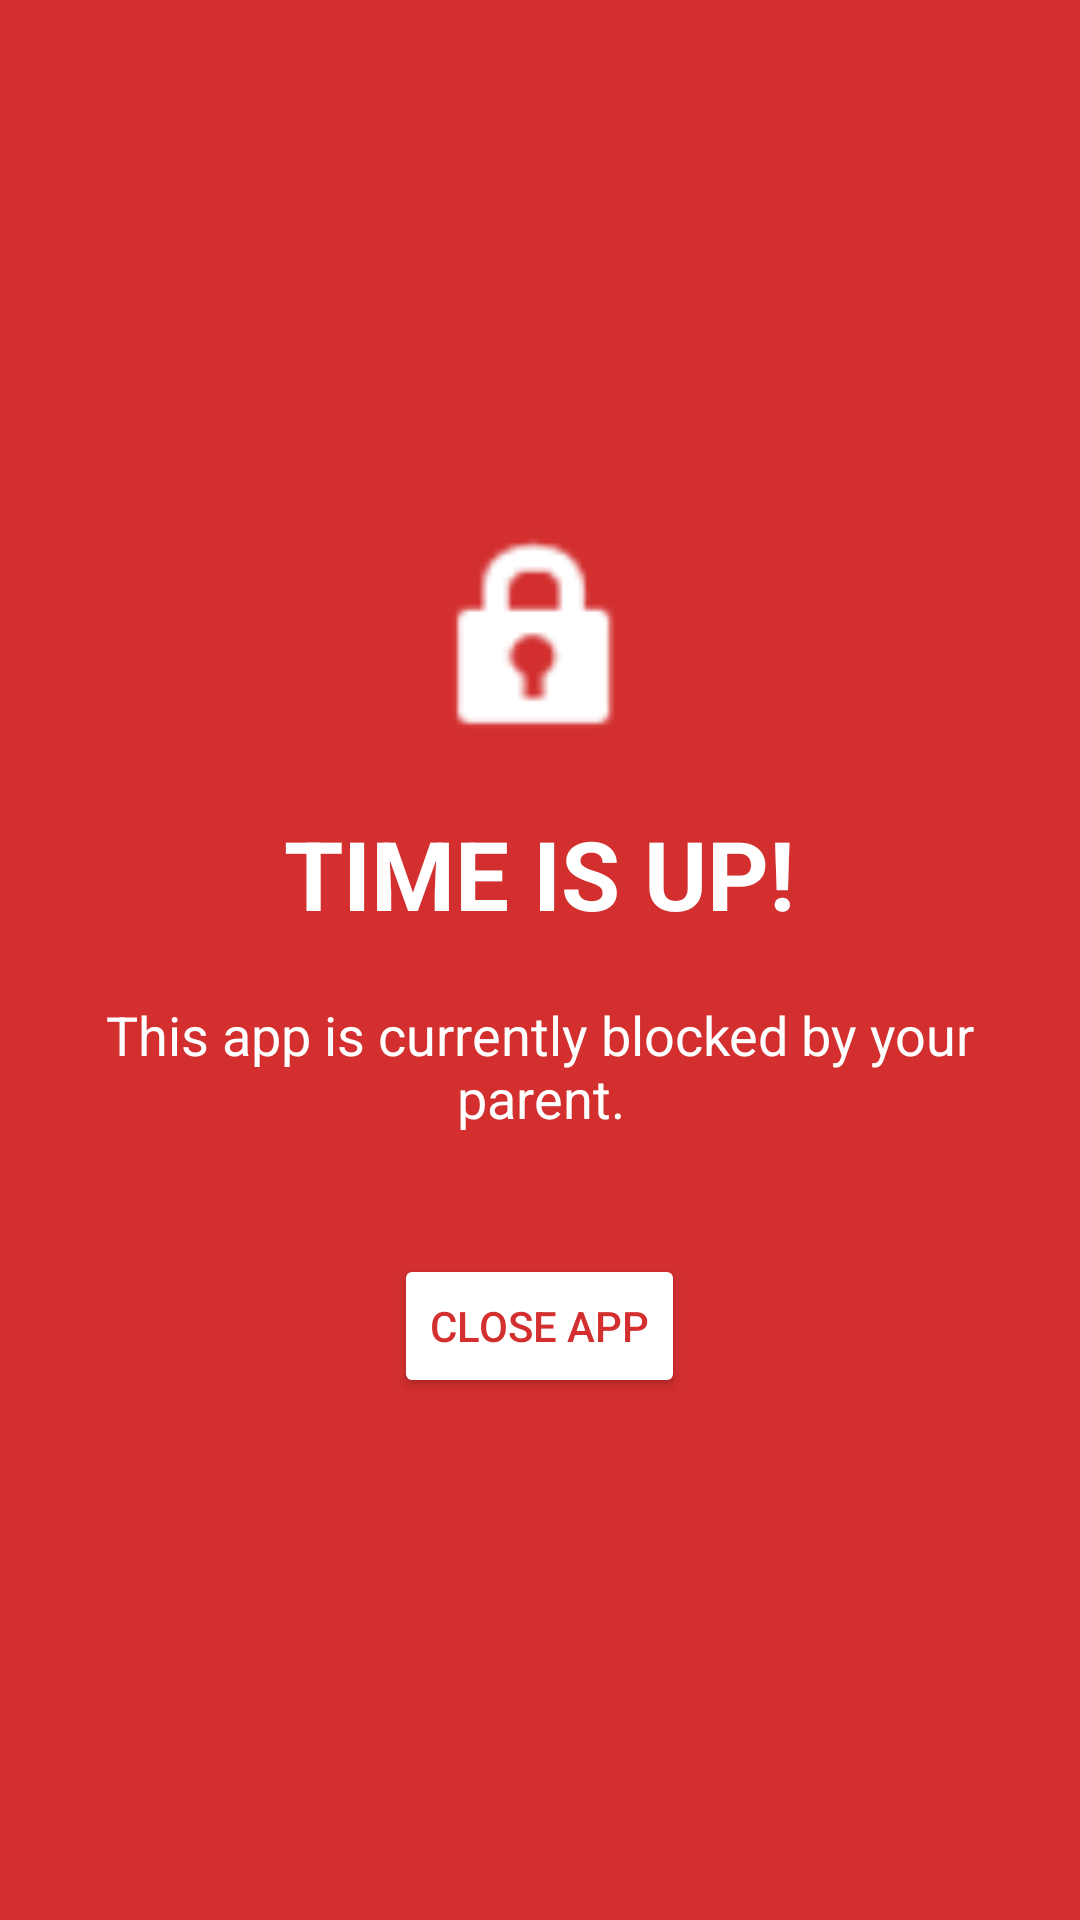

Icons on this 1080*1920 Android screen, each with the point to tap as (x=x, y=y):
lock idle: (x=534, y=633)
